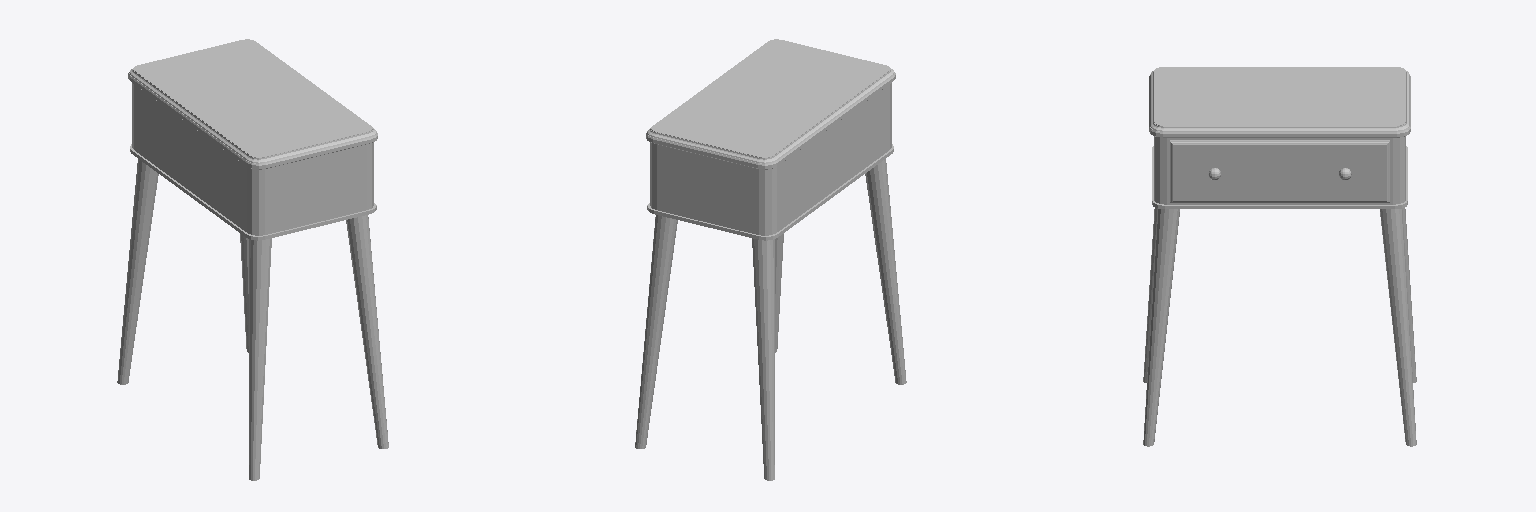
File: tumba.obj
3 renders of one model, left to right at view 1: azimuth 30°, elevation 25°; view 2: azimuth 150°, elevation 25°; view 3: azimuth 270°, elevation 25°, orthographic.
Parts seen in each view (by area): view 1: Плоскость, Плоскость.002; view 2: Плоскость, Плоскость.002; view 3: Плоскость, Плоскость.001, Плоскость.002.
Part boxes in pixels (x1,y1,x2,y2): Плоскость: (128, 39, 377, 240); Плоскость.002: (117, 159, 388, 480); Плоскость: (646, 39, 895, 240); Плоскость.002: (635, 159, 906, 480); Плоскость: (1149, 67, 1410, 208); Плоскость.001: (1170, 140, 1389, 202); Плоскость.002: (1143, 207, 1416, 446).
Bounding box in the file's own units: 3.87 × 8.11 × 6.35.